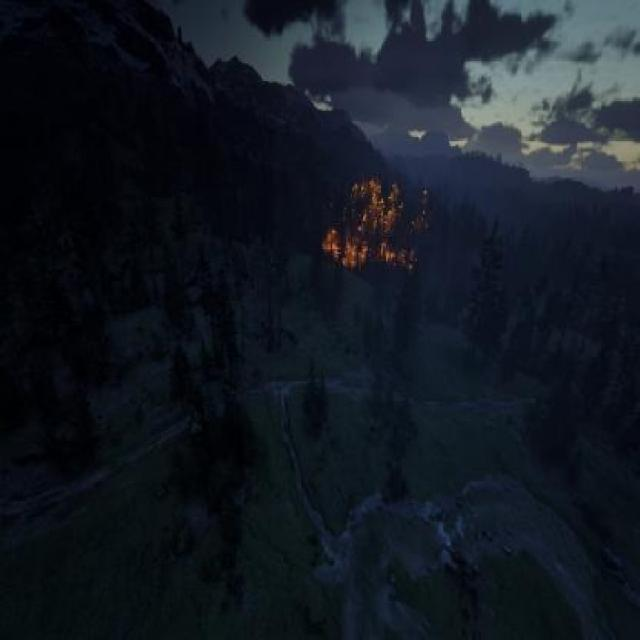Fire: (312, 160, 422, 288)
